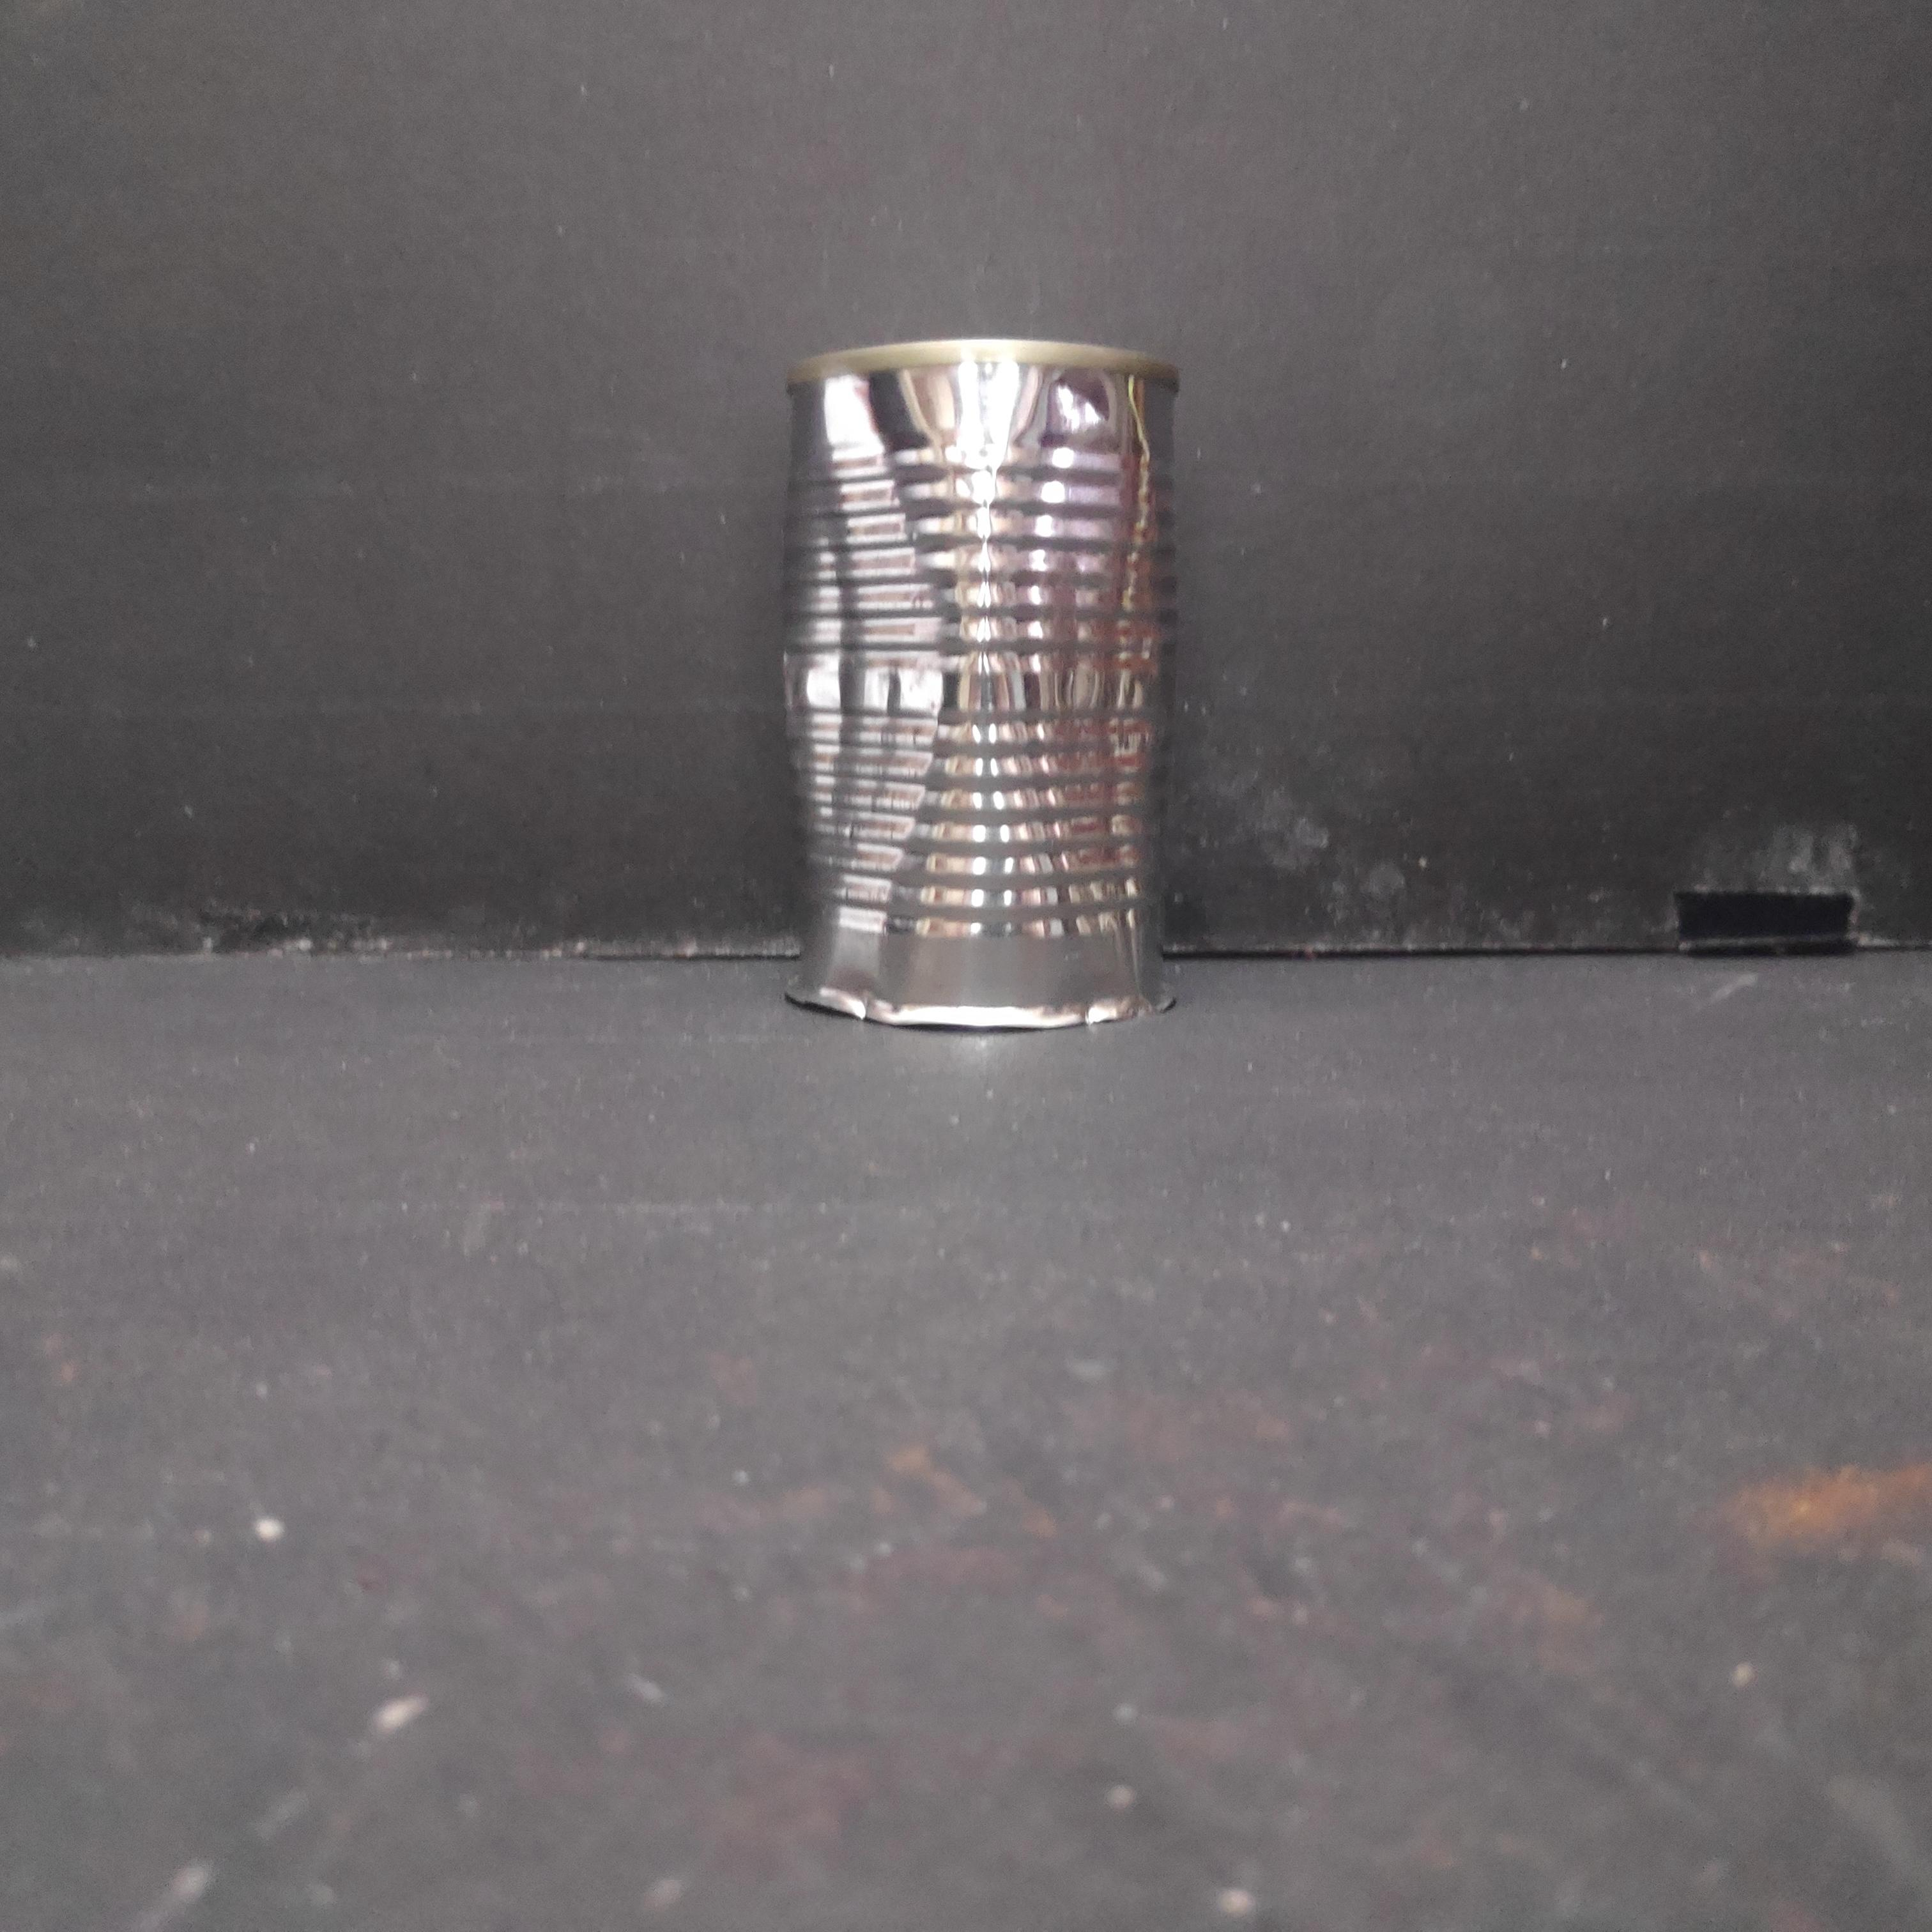Minor Defect: (755, 327, 1192, 1046)
